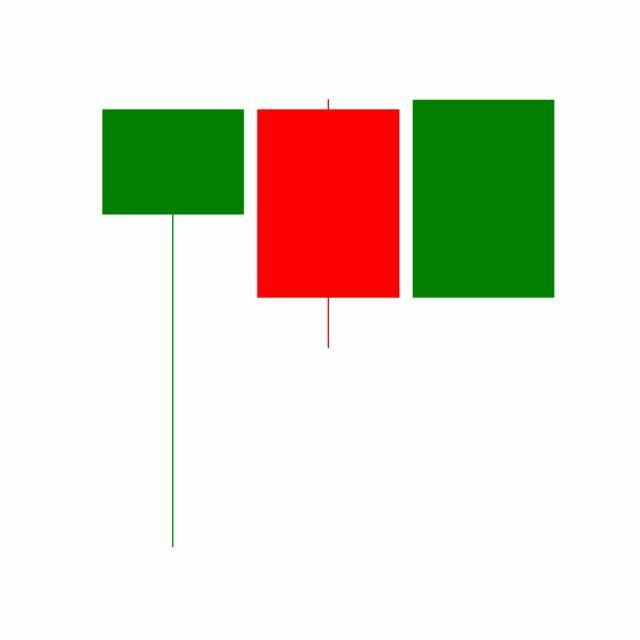Marubozu: (406, 99, 562, 301)
